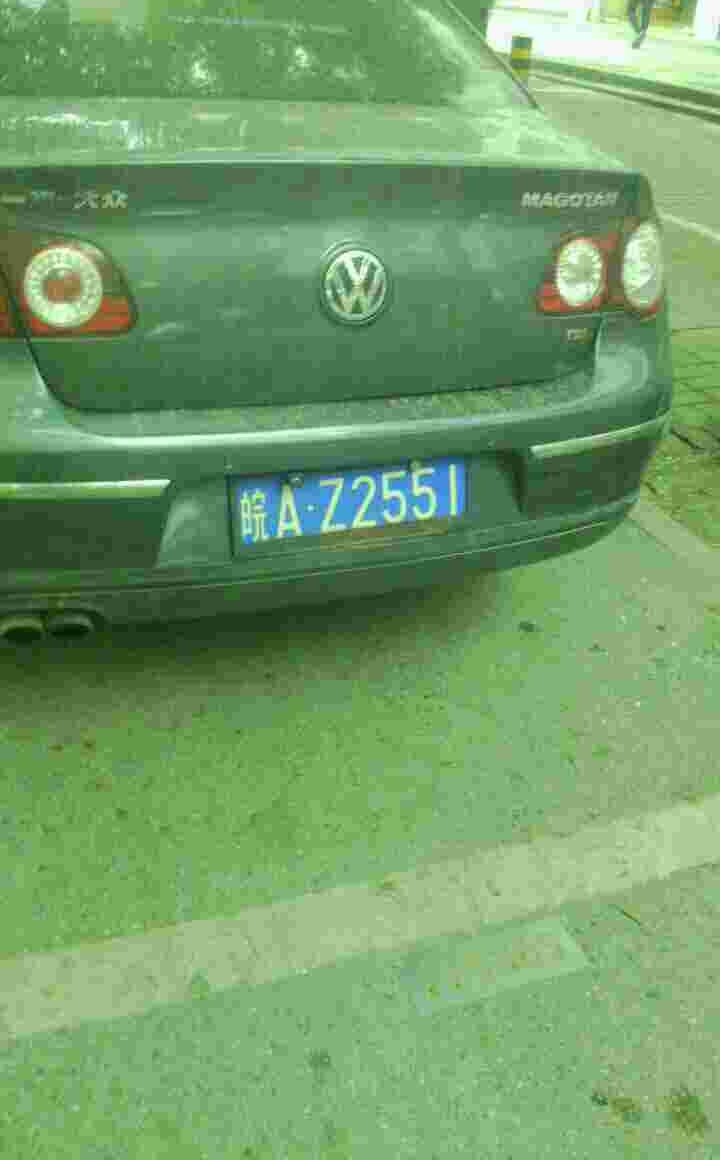license_plate: (240, 463, 460, 537)
